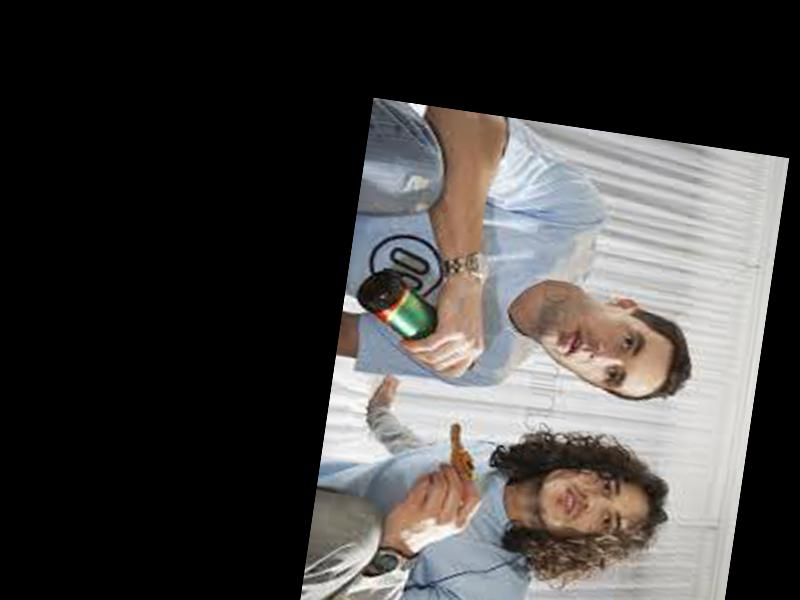Beer: (347, 264, 487, 371)
